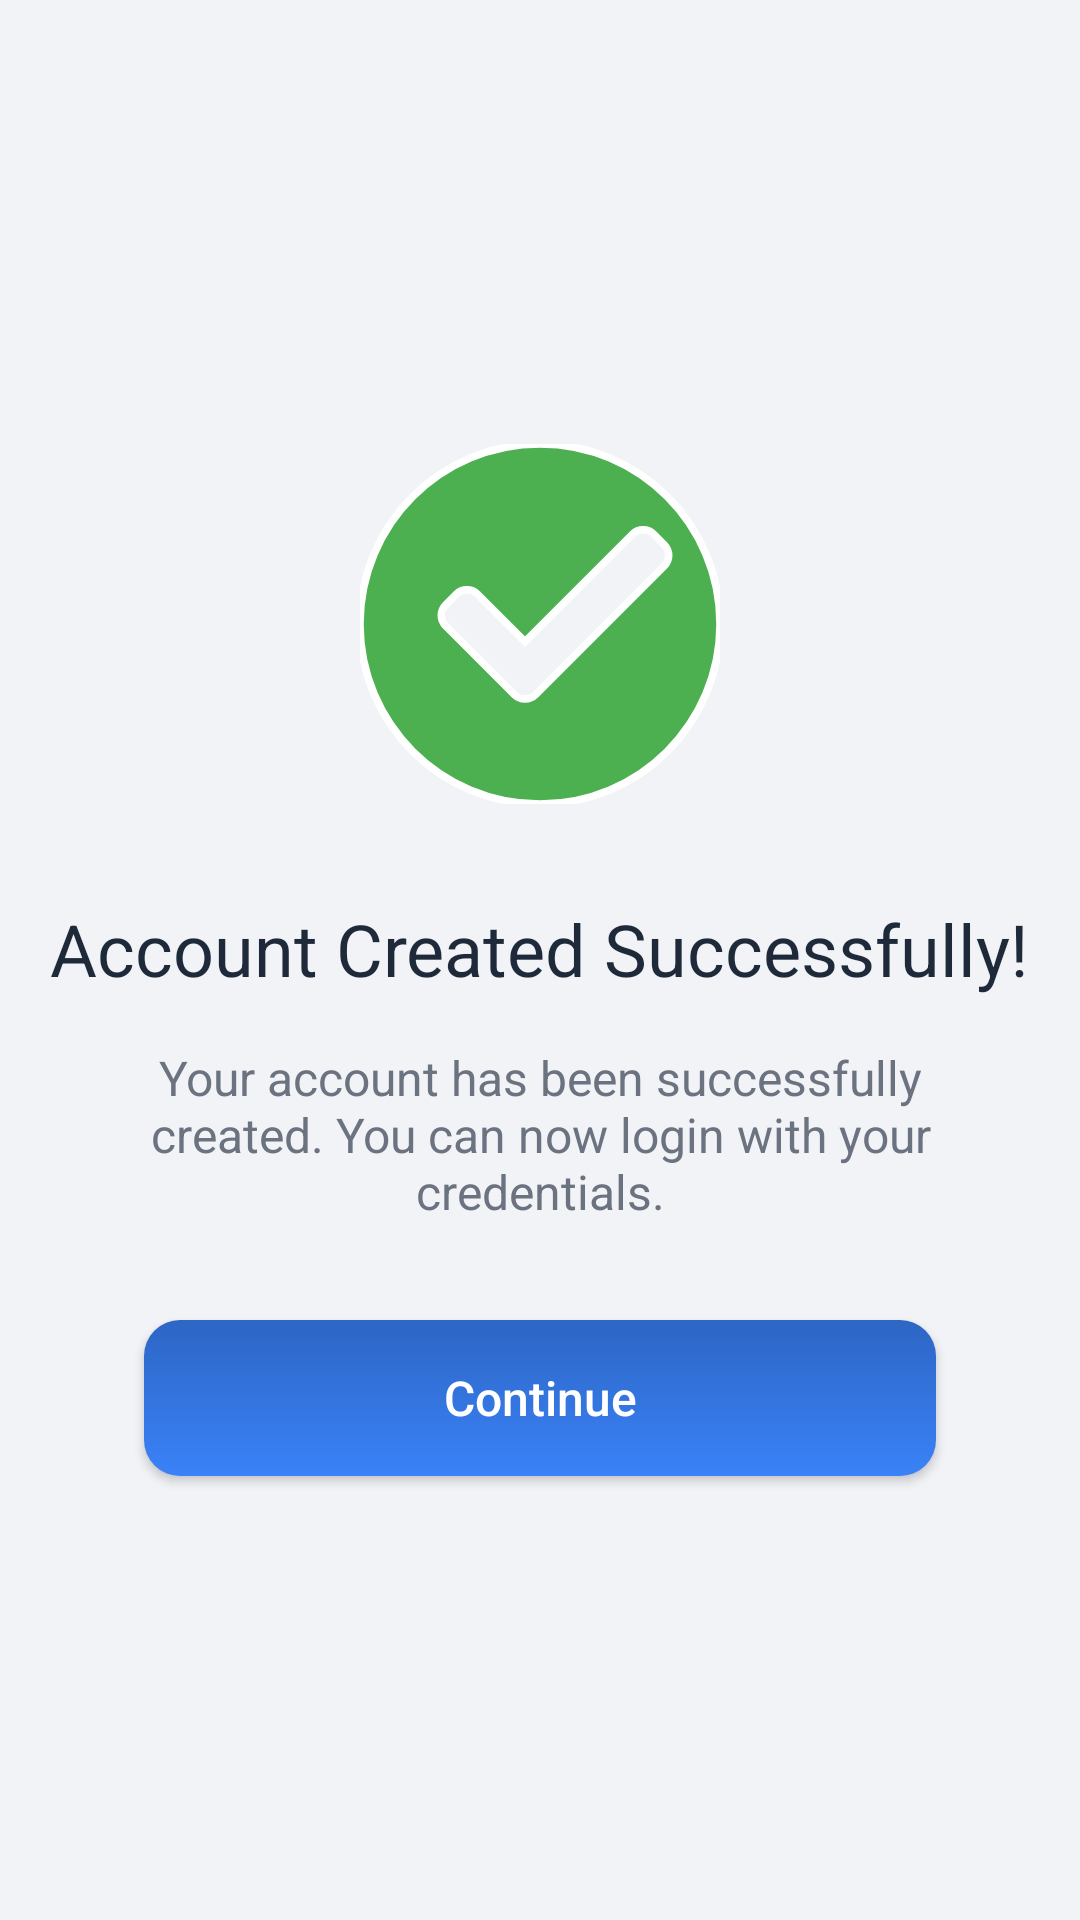

Icon click points for this 1080 x 1920 phone screenshot, format point (x, y):
check circle: point (540, 624)
